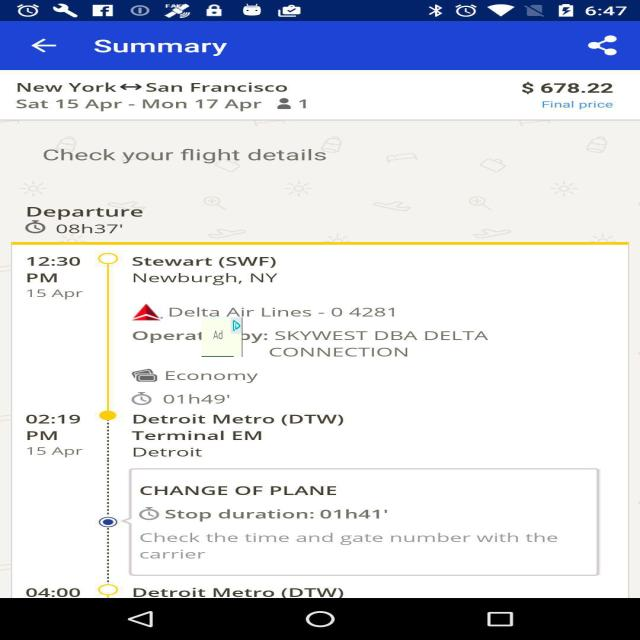sneaking: (202, 317, 242, 357)
